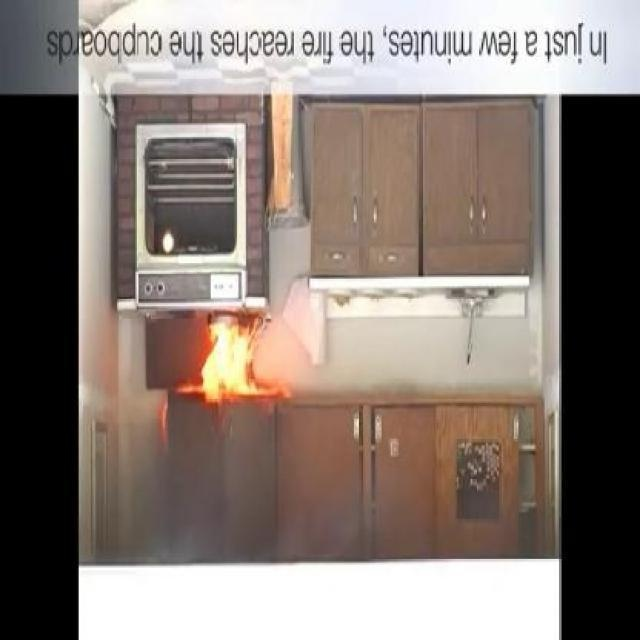fire: (150, 274, 283, 423)
